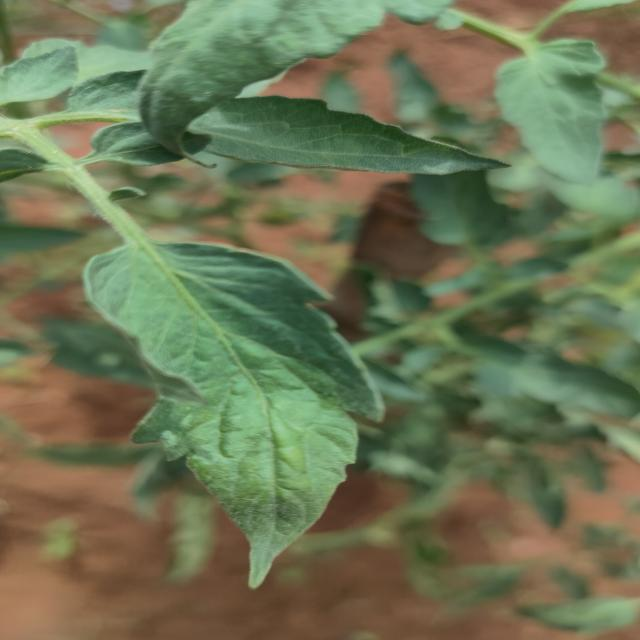tomato_healthy: (77, 238, 377, 586)
